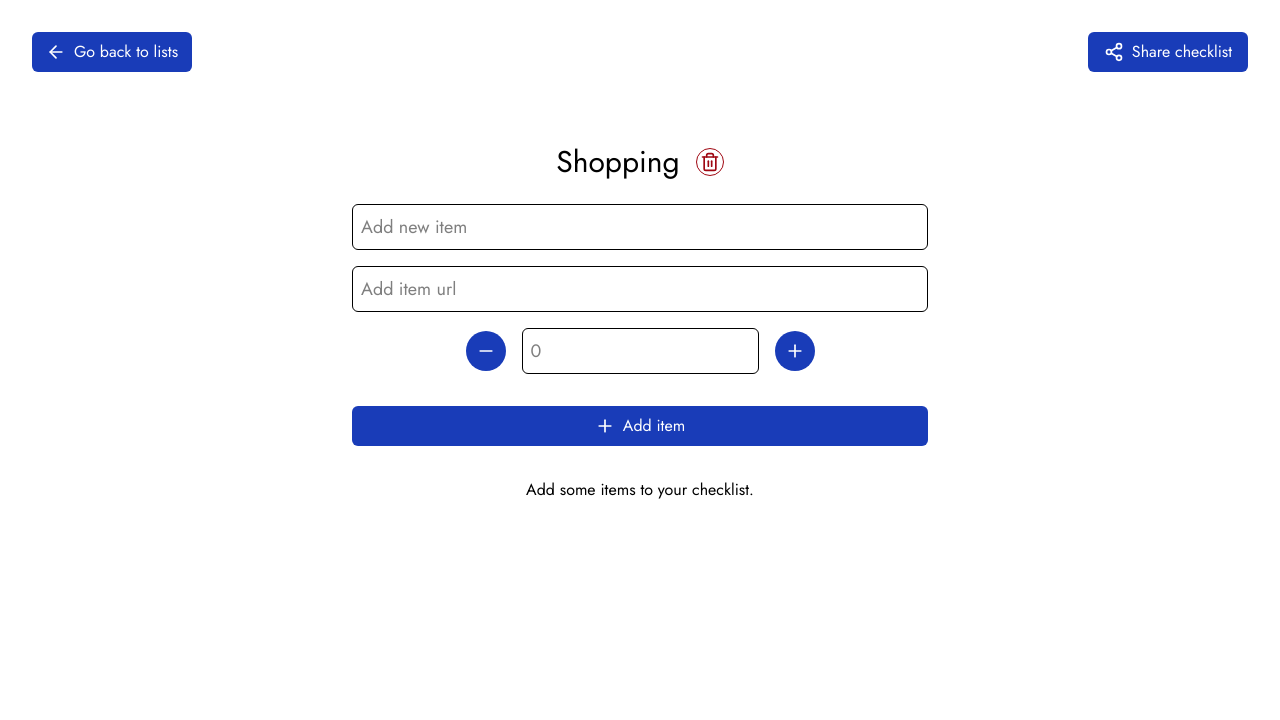
Test: Checklist › adds a new item and resets the input
Expected: the heading "Shopping" is shown, [556, 144, 680, 180]
Step 1. Type "  Buy apples  " into the field with placeholder "Add new item" → coordinates (640, 227), box [352, 204, 928, 250]
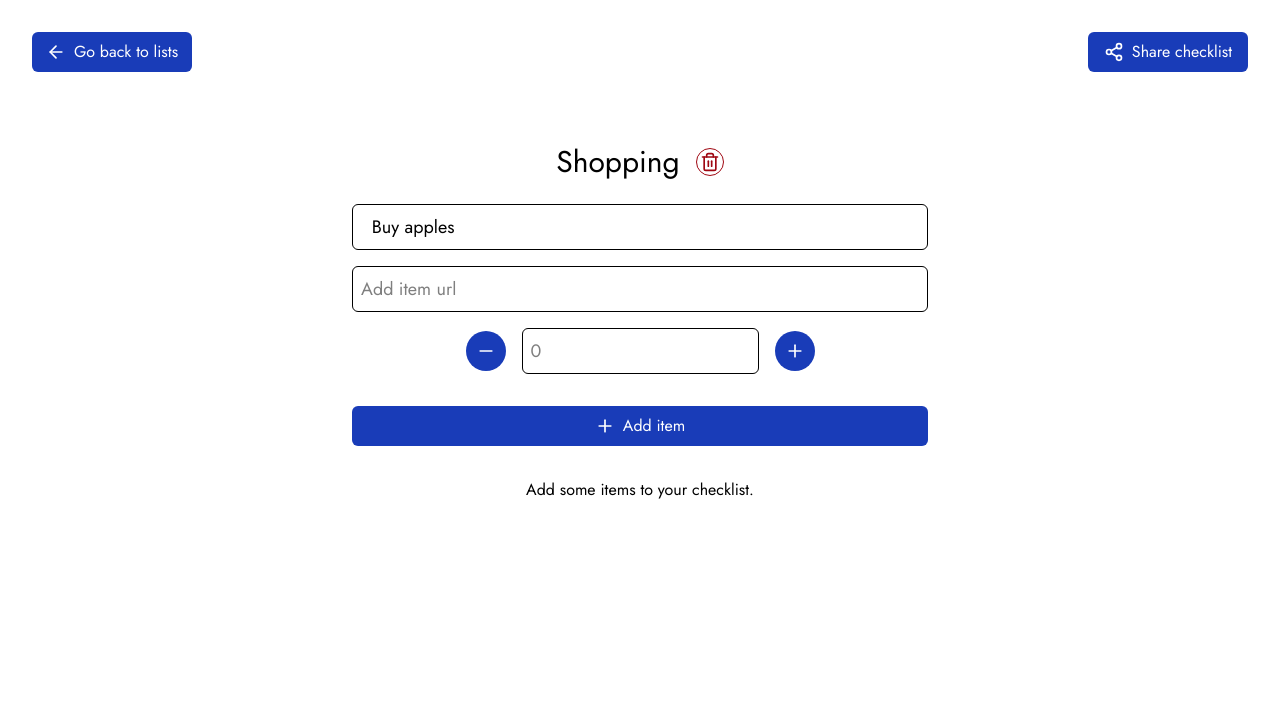
Step 2. Type "  https://example.com/apples  " into the field with placeholder "Add item url" → coordinates (640, 289), box [352, 266, 928, 312]
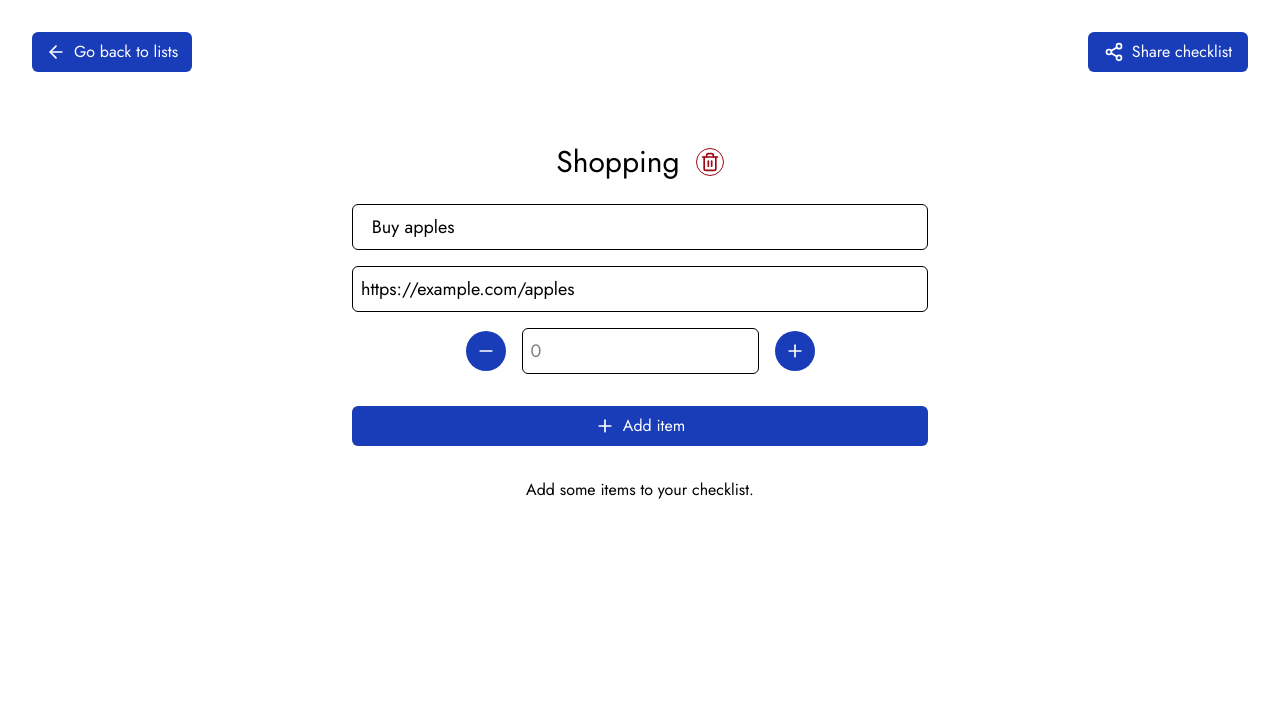
Step 3. Type "3" into the number field with placeholder "0" → coordinates (640, 351), box [522, 328, 758, 374]
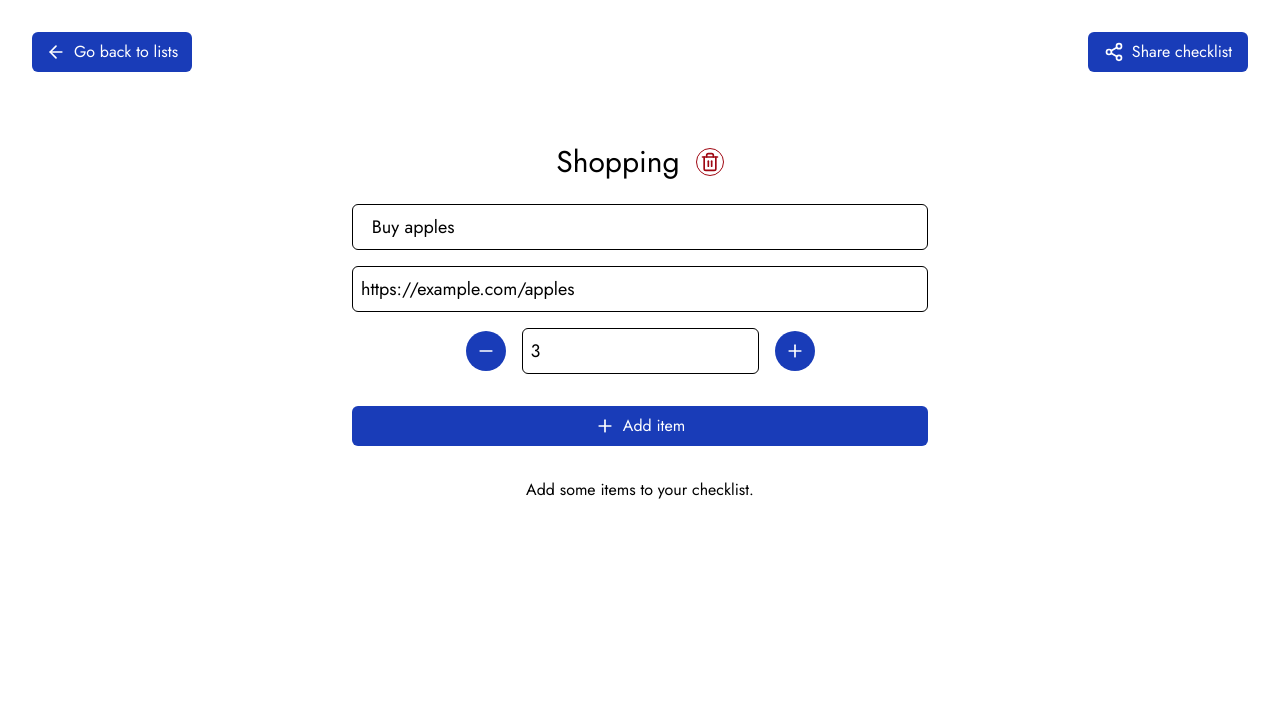
Step 4. Click the button with test id "add-item-submit" → coordinates (640, 426), box [352, 406, 928, 446]
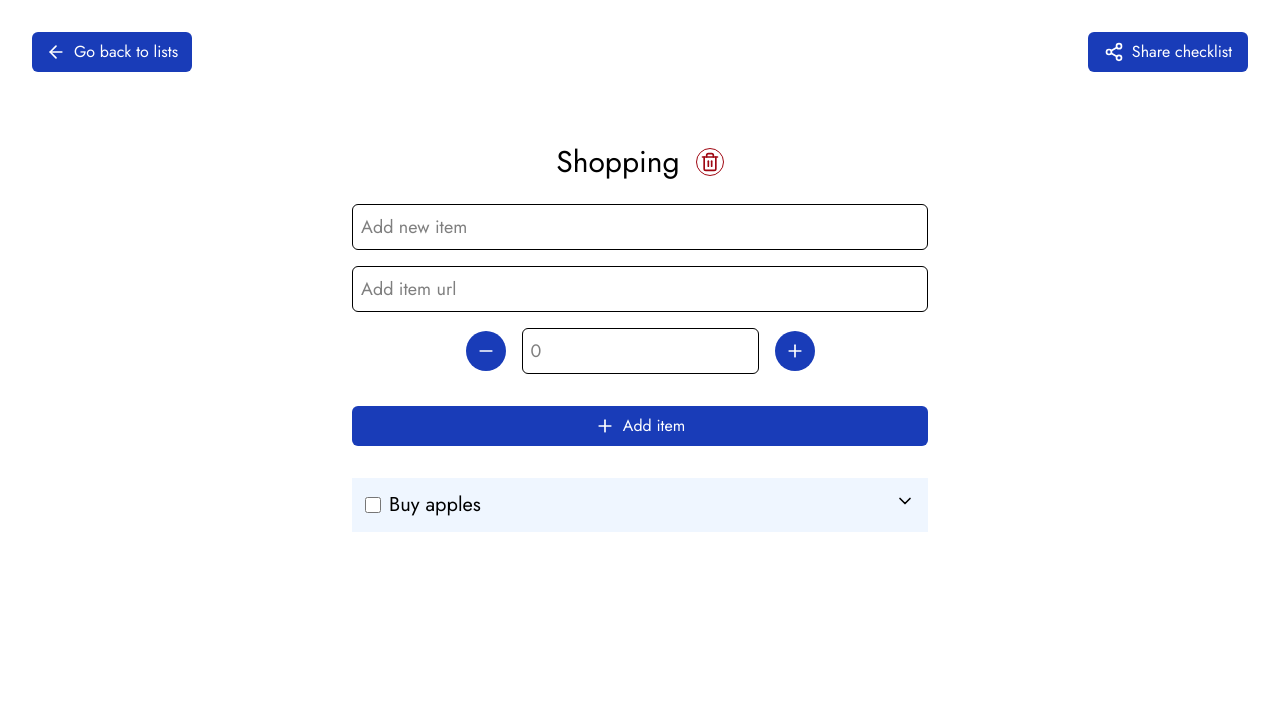
Expected: the text "Buy apples" is shown, [389, 491, 481, 519]
Expected: the field with placeholder "Add new item" is empty, [352, 204, 928, 250]
Expected: the field with placeholder "Add item url" is empty, [352, 266, 928, 312]
